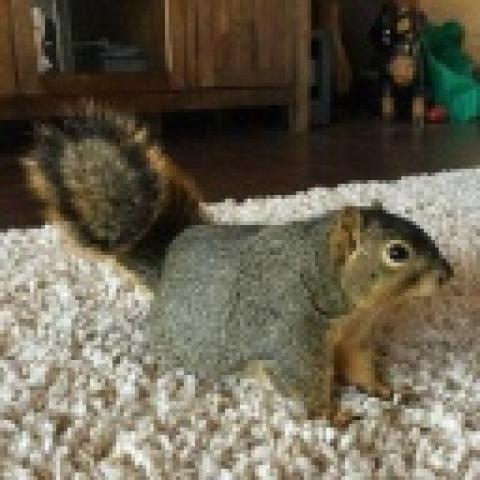small_animal: (15, 98, 457, 424)
